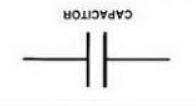Capacitor: (67, 25, 122, 91)
